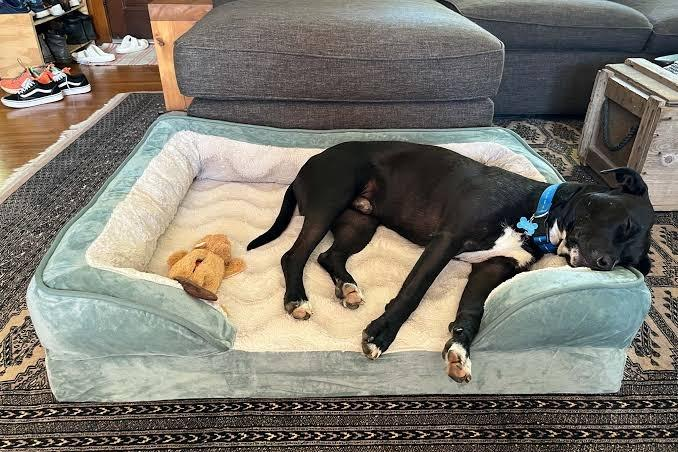adult_dog: (245, 137, 657, 384)
